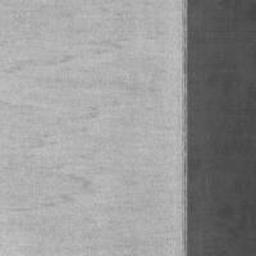Welding line: (180, 0, 188, 256)
